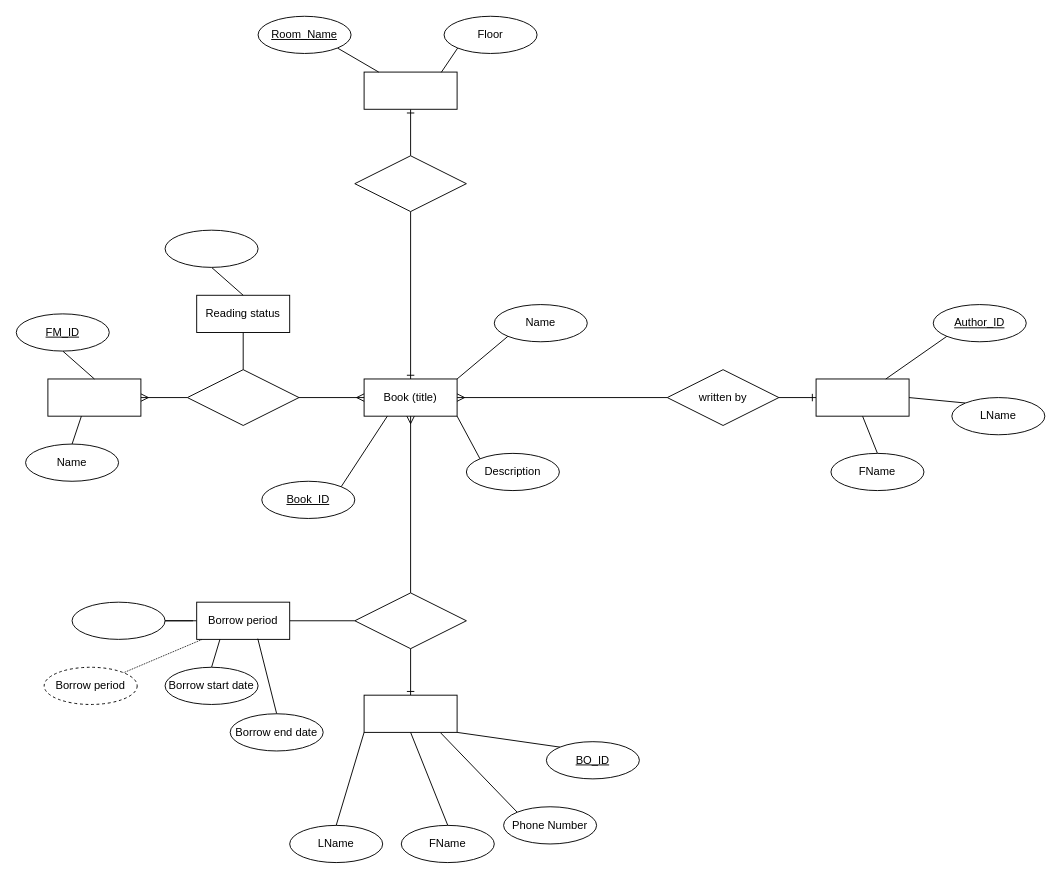
Image size: 1061x879. Some labels were removed from this diagram. Here are the shapes that lost their labels. From the top down, the centre of each, then its label:
(410,90): Room
(410,183): stands in
(211,248): Read
(94,397): Family member
(242,397): done reading
(862,397): Author
(118,620): Borrow_ID
(410,620): owned by
(410,713): Book Owner
